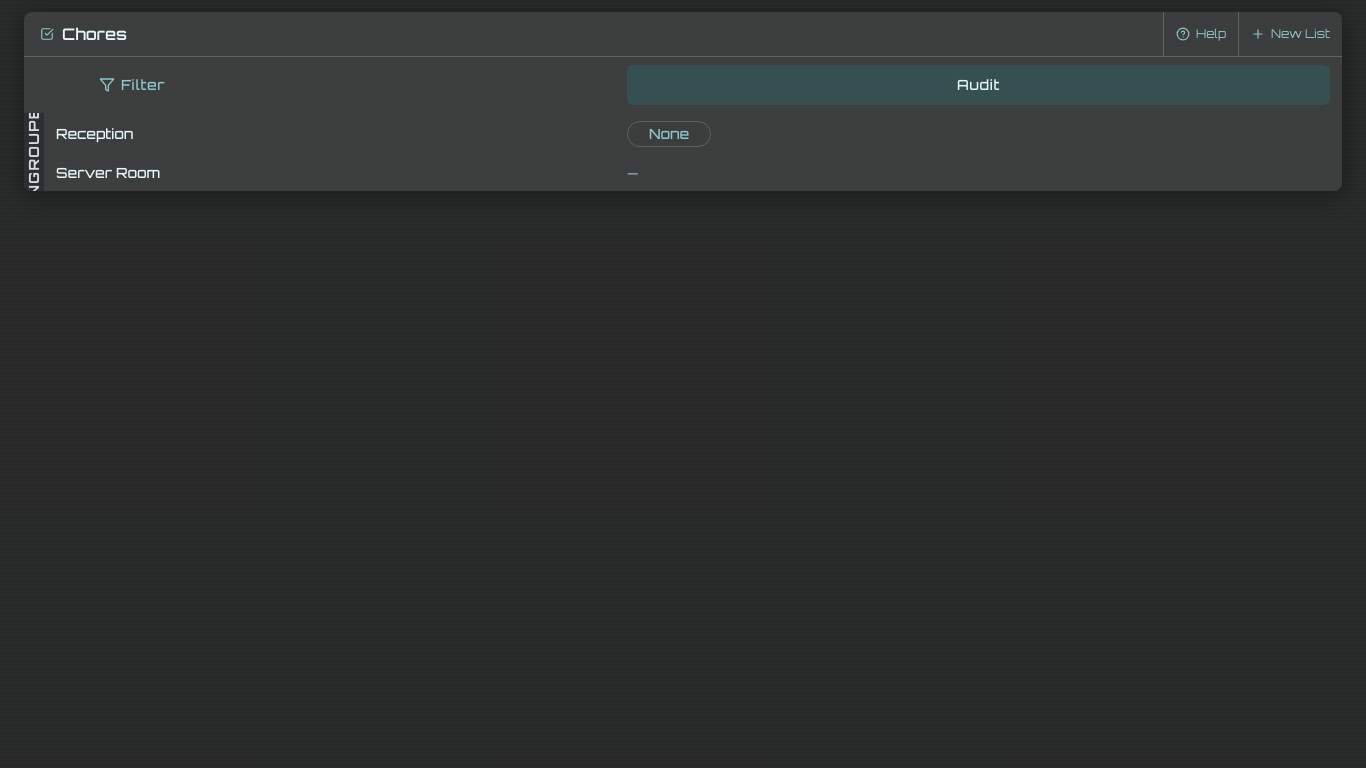
Scenario: ChoreListsView – cell editing › opens the entry edit dialog when clicking a populated cell
Click the button titled "Edit entry" at [669, 134], box [627, 121, 711, 147]
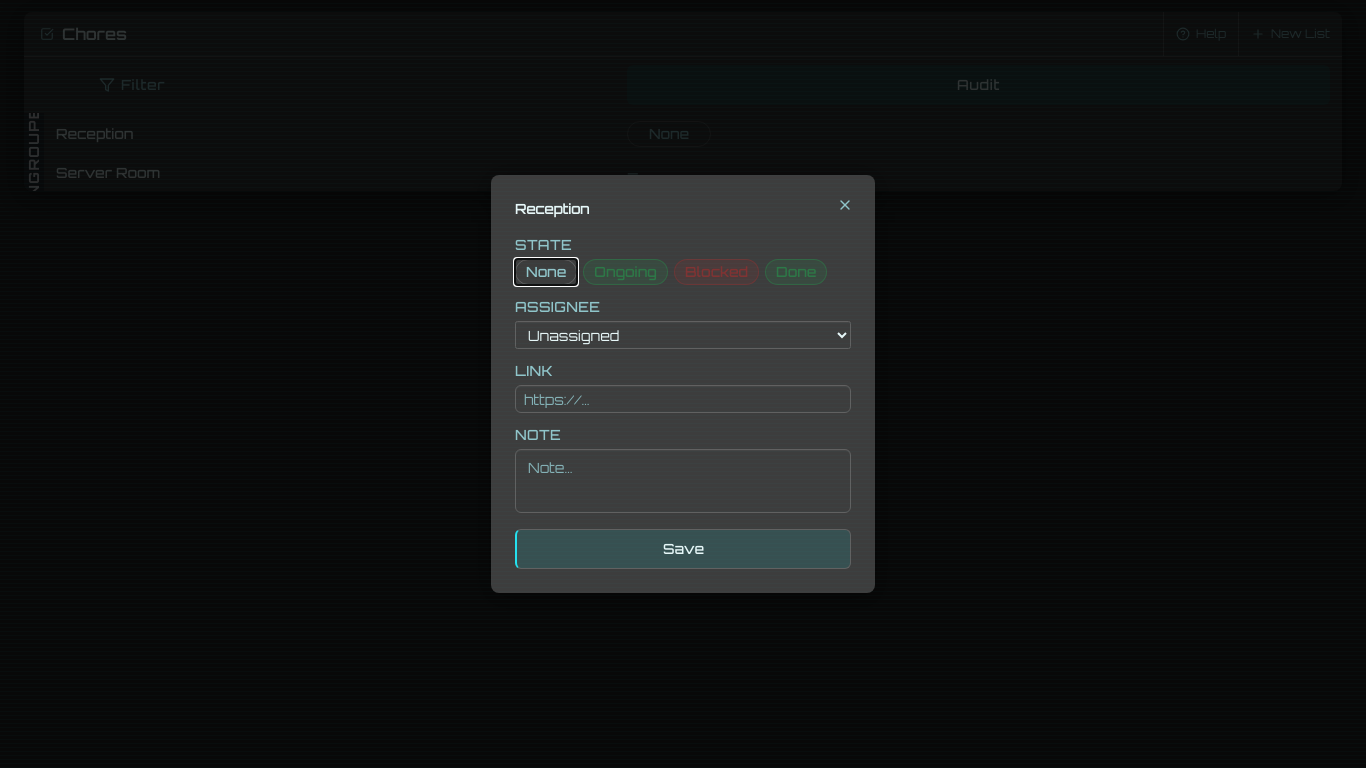
Now the button "Save" is shown, box [515, 529, 851, 569]
